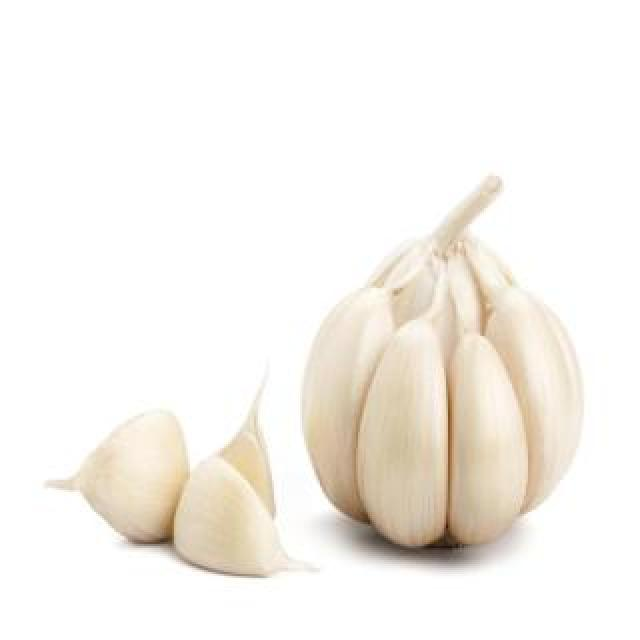Wet: (296, 172, 589, 553), (66, 380, 299, 579)
